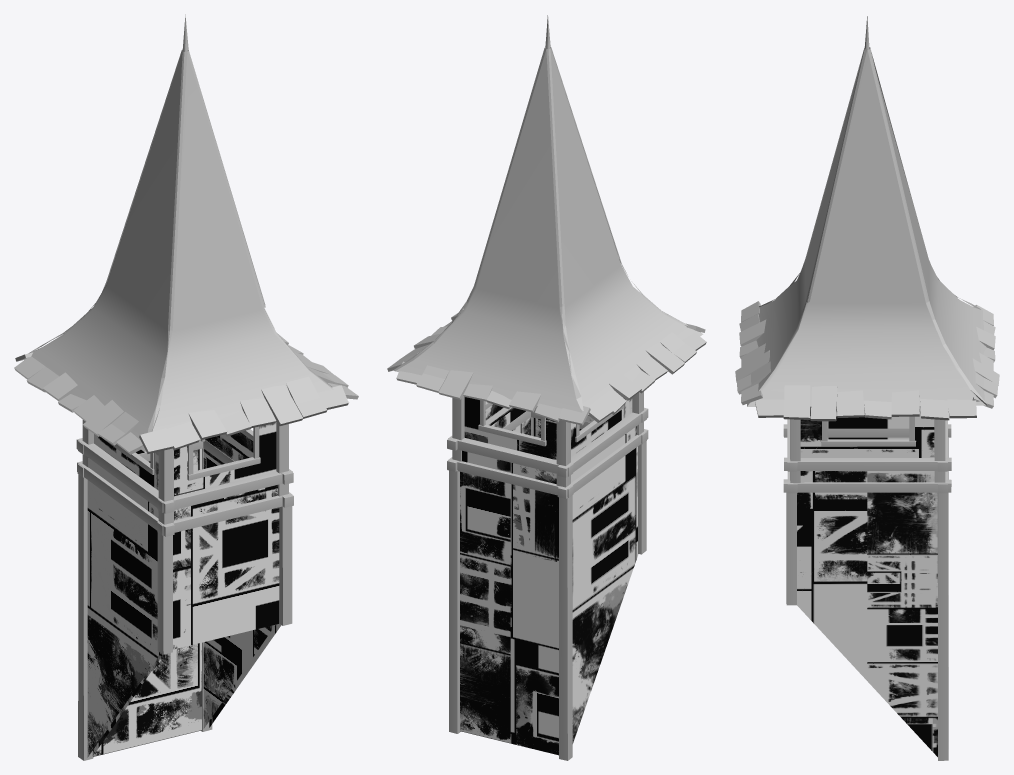
Rendered from SM_chimney.fbx.
3 renders of one model, left to right at view 1: azimuth 30°, elevation 25°; view 2: azimuth 150°, elevation 25°; view 3: azimuth 270°, elevation 25°, orthographic. The views are drawn at different scales.
Parts seen in each view (by area): view 1: SM_chimney_LOD0; view 2: SM_chimney_LOD0; view 3: SM_chimney_LOD0.
Boxes of the visible parts, bbox=[...] form: SM_chimney_LOD0: bbox=[14, 14, 358, 760]; SM_chimney_LOD0: bbox=[387, 15, 706, 760]; SM_chimney_LOD0: bbox=[735, 16, 999, 760].
Bounding box in the file's own units: 435 × 438 × 1310.
